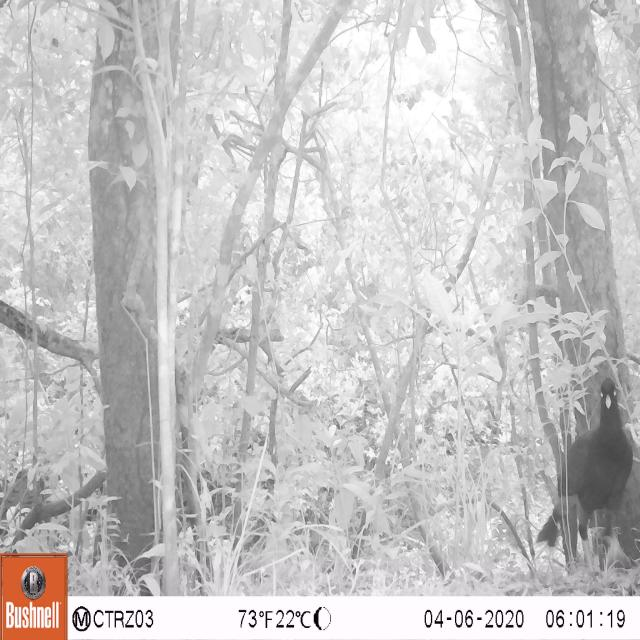Salvins Curassow: (531, 366, 640, 580)
